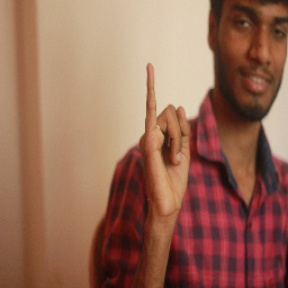I: (131, 62, 199, 216)
